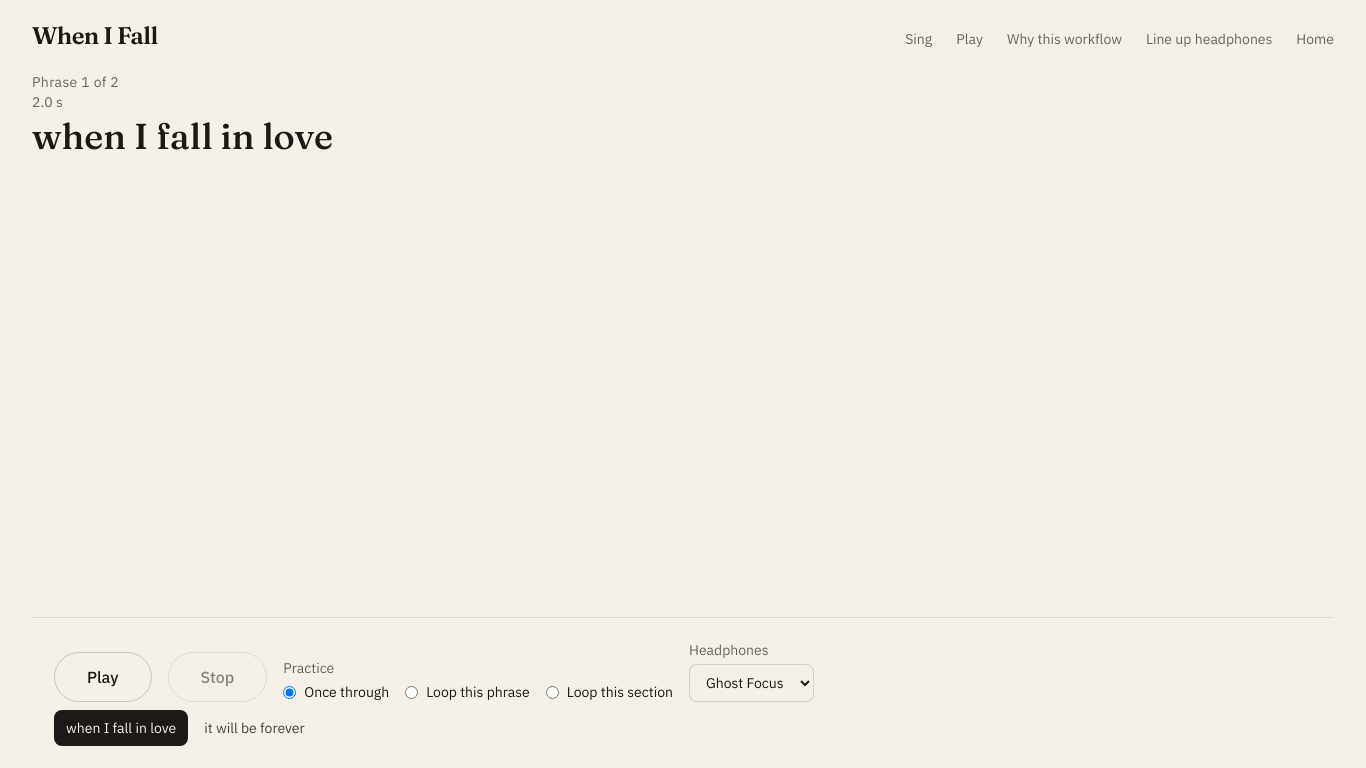
Scenario: PlayPage › Stop cancels playback
Step 1. Click the button "Play" → (103, 677), box [54,652,152,702]
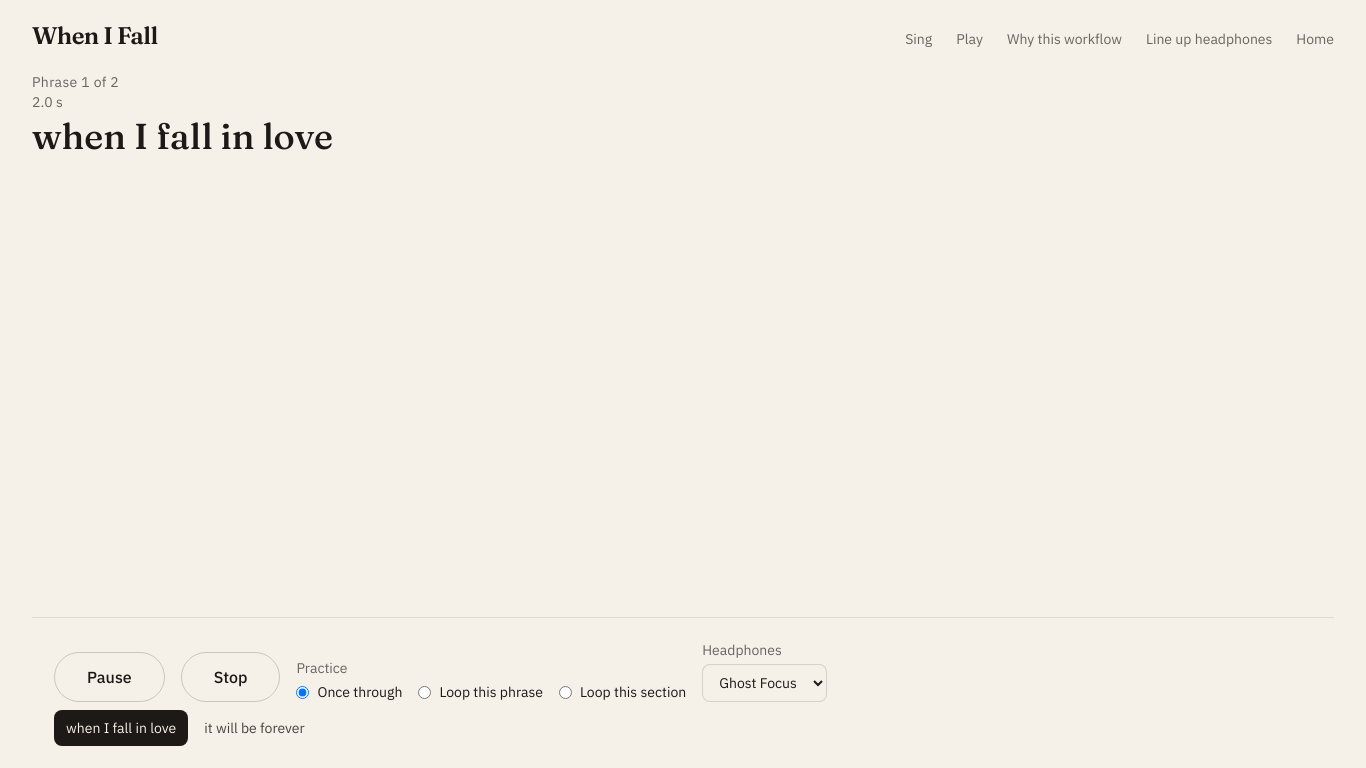
Expected: the button "Pause" is shown, [54,652,165,702]
Step 2. Click the button "Stop" → (231, 677), box [181,652,280,702]
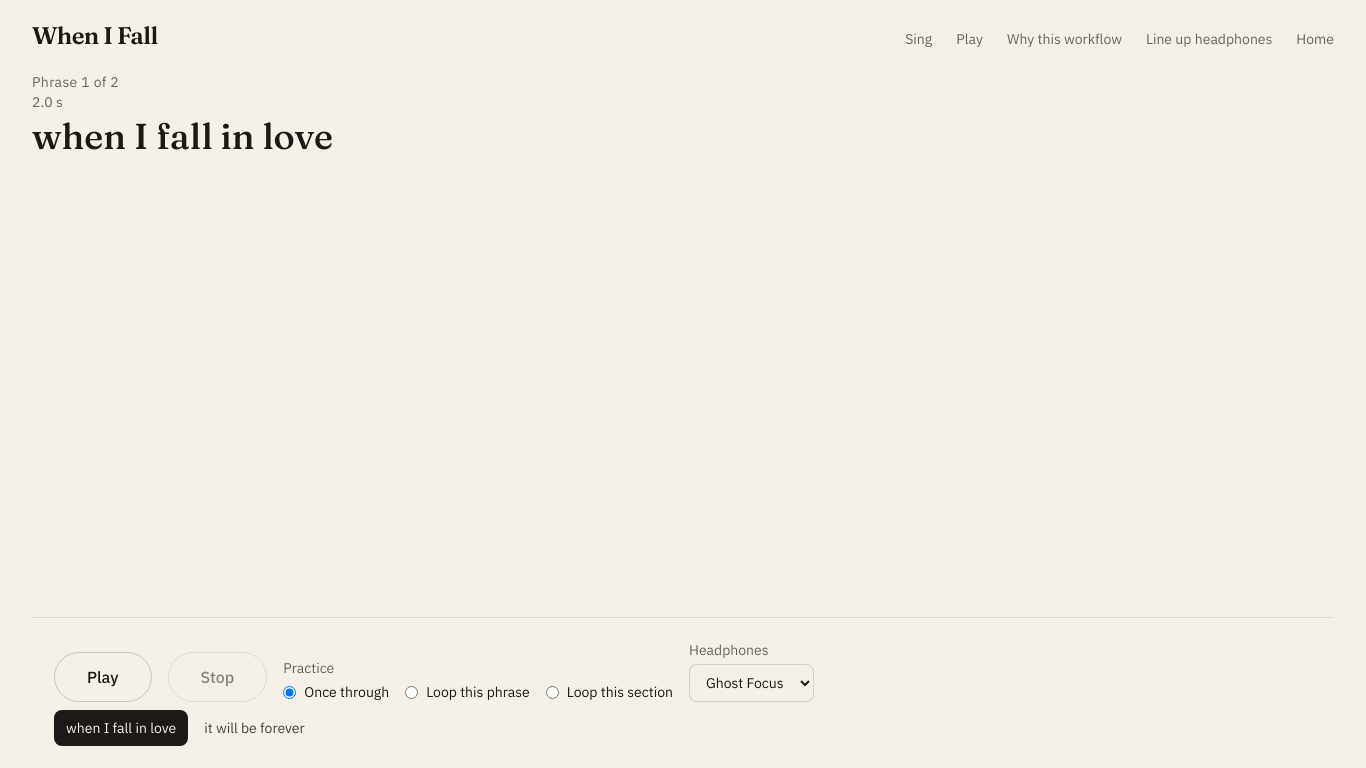
Expected: the button "Play" is shown, [54,652,152,702]
